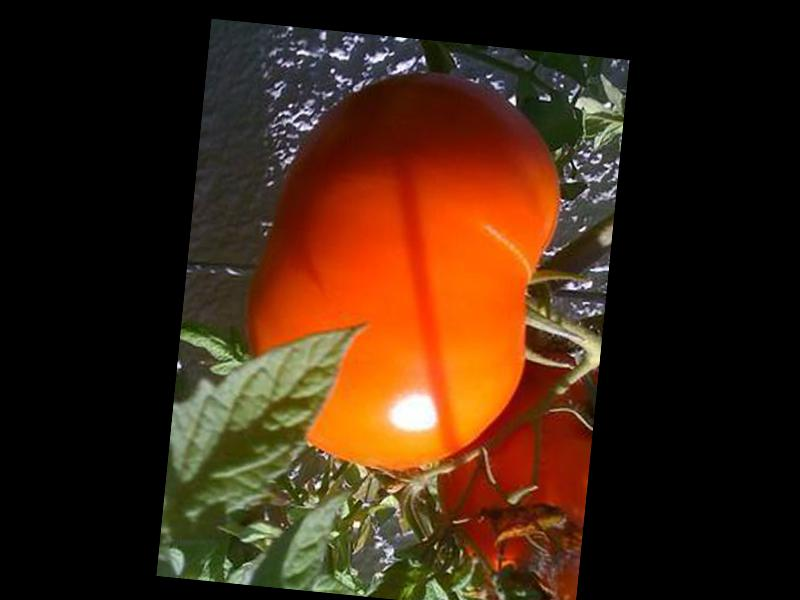Tomato: (234, 58, 571, 484)
